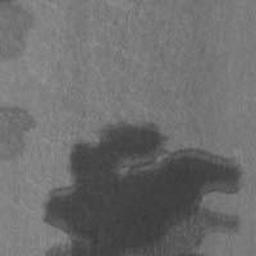Oil spot: (41, 119, 246, 256), (0, 0, 38, 67), (0, 102, 40, 164)
